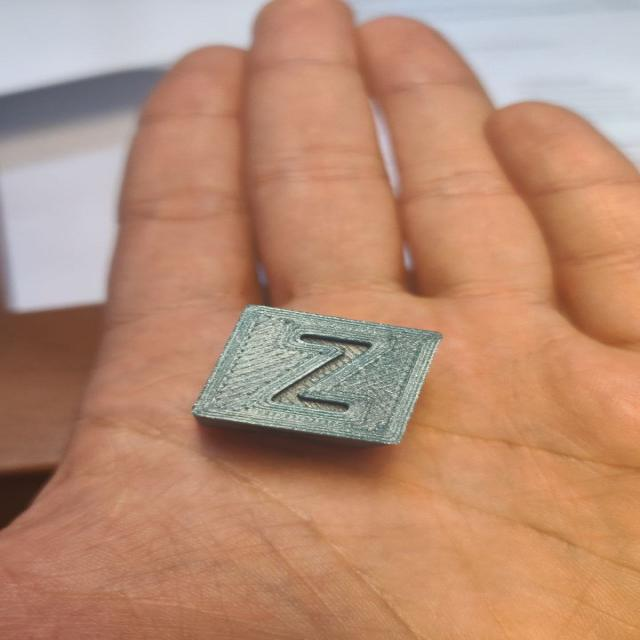Without deffect: (191, 297, 450, 453)
